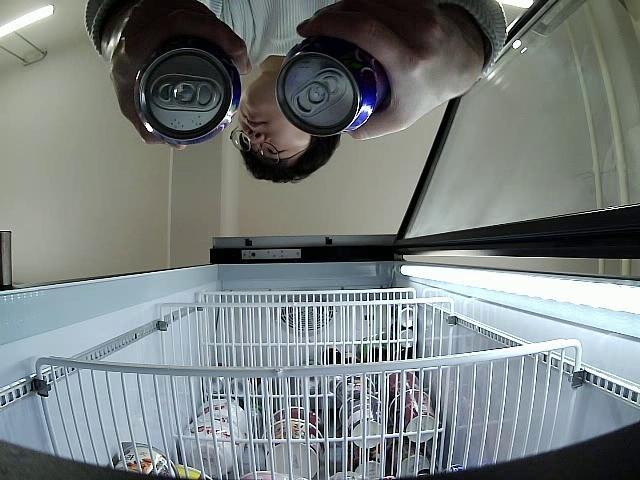14_welchsGrape: (273, 37, 390, 136), (133, 40, 242, 146)
